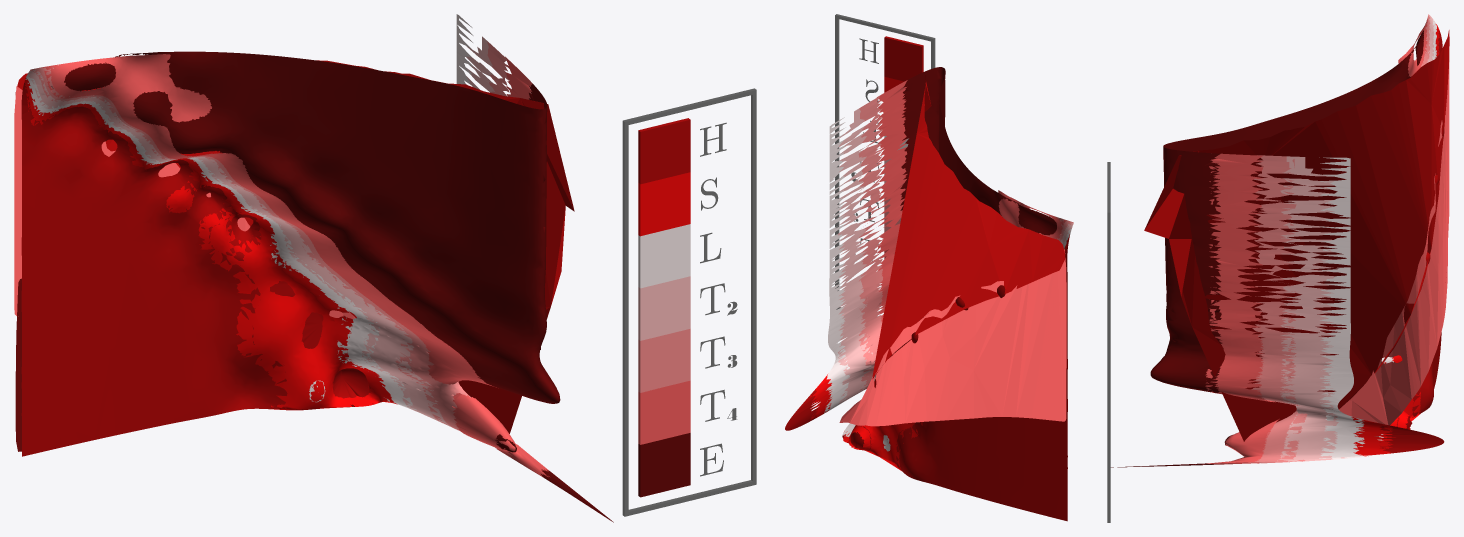
File: sim.glb
3 renders of one model, left to right at view 1: azimuth 30°, elevation 25°; view 2: azimuth 150°, elevation 25°; view 3: azimuth 270°, elevation 25°, orthographic. The views are drawn at different scales.
Parts seen in each view (by area): view 1: E_simulated, H_simulated, Cube (×7), S_simulated, T4_simulated, body 70, T2_simulated, L_simulated, H_simulated_back, T3_simulated, T4_simulated_back, E_simulated_back; view 2: T4_simulated_back, H_simulated_back, H_simulated, T2_simulated, E_simulated, T4_simulated, T3_simulated, L_simulated, S_simulated, body 70, Cube; view 3: H_simulated_back, E_simulated, T4_simulated, T2_simulated, T4_simulated_back, T3_simulated, L_simulated, H_simulated, S_simulated, body 70.
Part boxes in pixels (bbox=[...]): E_simulated: bbox=[64, 51, 613, 522]; H_simulated: bbox=[21, 83, 370, 456]; Cube (×7): bbox=[638, 118, 690, 497]; S_simulated: bbox=[24, 78, 397, 410]; T4_simulated: bbox=[41, 54, 549, 477]; body 70: bbox=[622, 88, 756, 516]; T2_simulated: bbox=[27, 36, 494, 426]; L_simulated: bbox=[25, 14, 473, 413]; H_simulated_back: bbox=[15, 60, 574, 433]; T3_simulated: bbox=[30, 41, 515, 443]; T4_simulated_back: bbox=[14, 86, 355, 318]; E_simulated_back: bbox=[15, 278, 21, 451]; T4_simulated_back: bbox=[839, 249, 1066, 426]; H_simulated_back: bbox=[872, 75, 1065, 378]; H_simulated: bbox=[785, 241, 1068, 521]; T2_simulated: bbox=[838, 108, 1073, 423]; E_simulated: bbox=[900, 67, 1056, 235]; T4_simulated: bbox=[876, 80, 1065, 322]; T3_simulated: bbox=[858, 96, 1073, 390]; L_simulated: bbox=[824, 117, 1071, 451]; S_simulated: bbox=[810, 234, 1069, 470]; body 70: bbox=[835, 14, 935, 316]; Cube: bbox=[884, 36, 923, 81]; H_simulated_back: bbox=[1144, 30, 1449, 441]; E_simulated: bbox=[1111, 30, 1423, 467]; T4_simulated: bbox=[1195, 19, 1427, 465]; T2_simulated: bbox=[1277, 15, 1434, 462]; T4_simulated_back: bbox=[1339, 62, 1449, 436]; T3_simulated: bbox=[1248, 14, 1430, 463]; L_simulated: bbox=[1319, 19, 1436, 459]; H_simulated: bbox=[1379, 30, 1444, 453]; S_simulated: bbox=[1351, 24, 1439, 456]; body 70: bbox=[1107, 162, 1110, 522].
Bounding box in the file's own units: 0.0139 × 0.01 × 0.0101.
